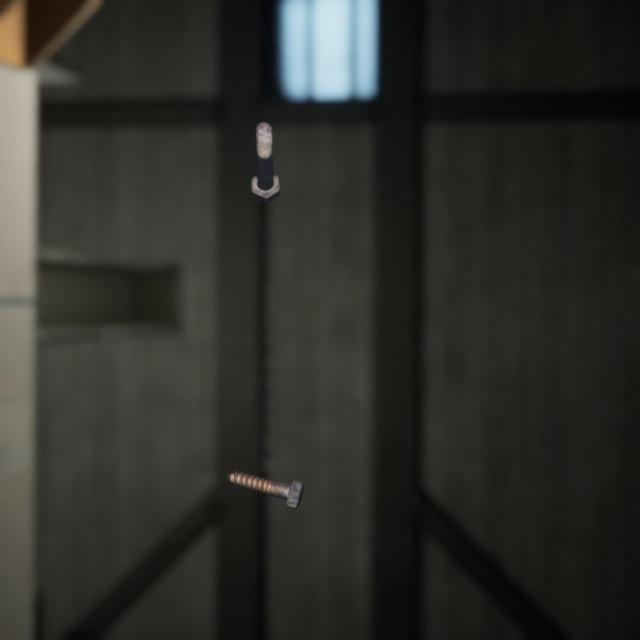bolt: (223, 444, 309, 491), (246, 103, 284, 193)
